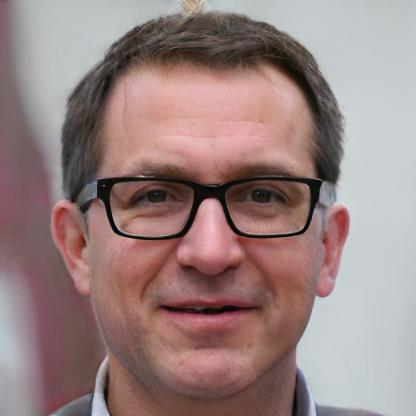glasses: (95, 162, 319, 244)
